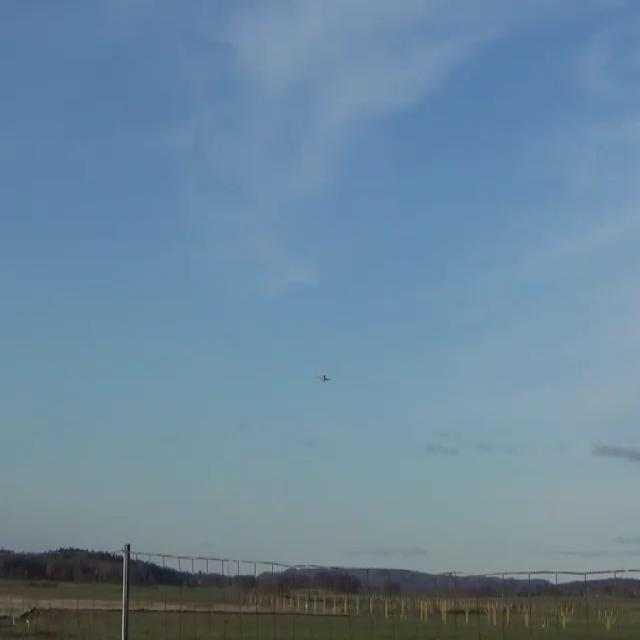AirPlane: (301, 358, 343, 397)
